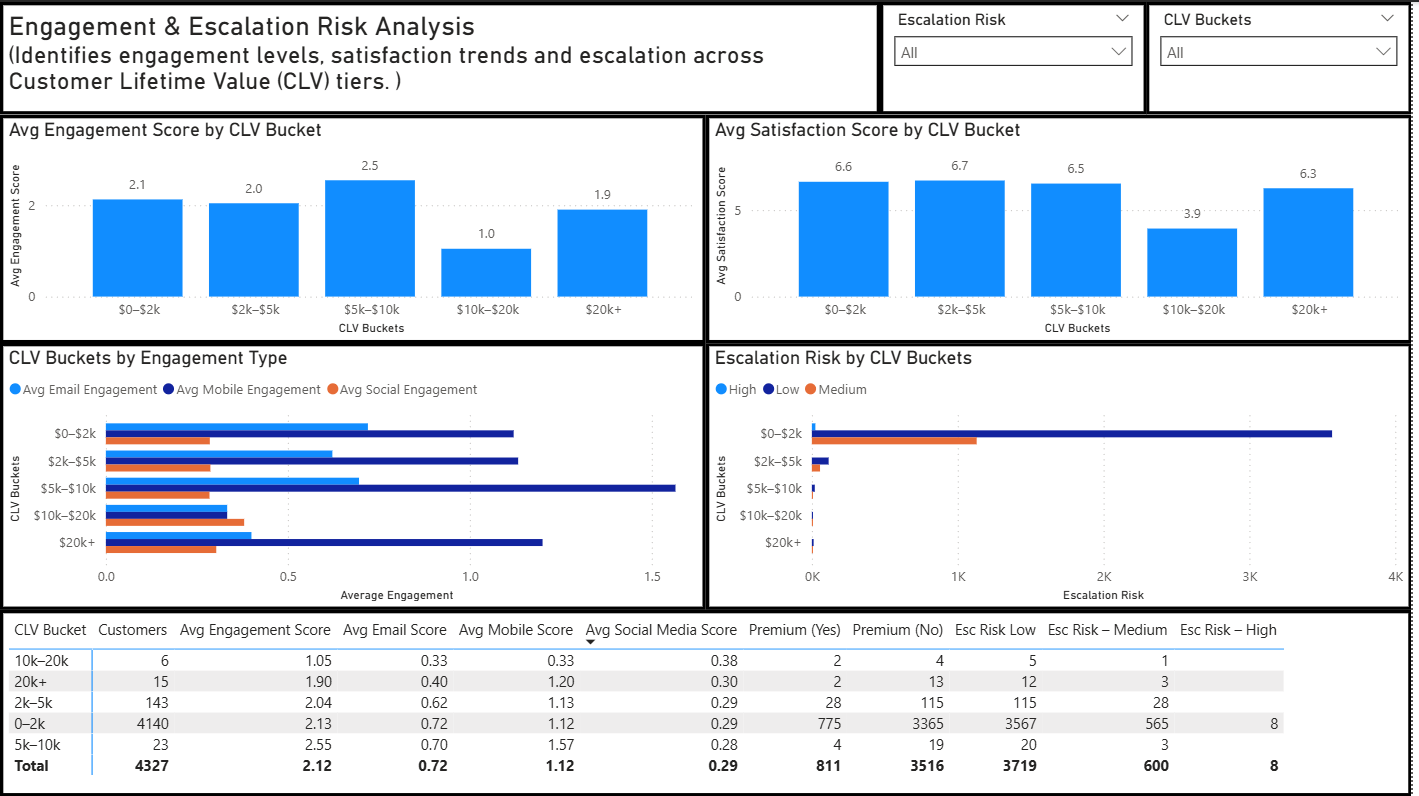

This screenshot's page, from the dashboard's own definition file:
{"tool":"powerbi","page":{"name":"Engagement & Risk","canvas":[1280,720],"ordinal":1},"visuals":[{"type":"pivotTable","fields":{"Values":["Measures_Table.Customers","Avg(F_public_customer_engagement.engagement_score)","Avg(F_public_customer_engagement.email_score)","Avg(F_public_customer_engagement.mobile_app_score)","Avg(F_public_customer_engagement.social_media_engagement_rate)","Measures_Table.Premium (Yes)","Measures_Table.Premium (No)","Measures_Table.Esc Risk Low","Measures_Table.Esc Risk – Medium","Measures_Table.Esc Risk – High"],"Rows":["DimCustomer.CLV Bucket"]},"box":[0,551,1280,169],"z":0},{"type":"clusteredColumnChart","title":"Avg Engagement Score by CLV Bucket","fields":{"Y":["Avg(F_public_customer_engagement.engagement_score)"],"Category":["DimCustomer.CLV Bucket Display"]},"box":[0,102.2,640,206.7],"z":1000},{"type":"clusteredBarChart","title":"CLV Buckets by Engagement Type","fields":{"Y":["Measures_Table.Avg Email Engagement","Measures_Table.Avg Mobile Engagement","Measures_Table.Avg Social Engagement"],"Category":["DimCustomer.CLV Bucket Display"]},"box":[0,309,640,242],"z":2000},{"type":"clusteredBarChart","title":"Escalation Risk by CLV Buckets","fields":{"Y":["Sum(F_public_customer_satisfaction.Escalation Risk Numeric)"],"Series":["F_public_customer_satisfaction.escalation_risk"],"Category":["DimCustomer.CLV Bucket Display"]},"box":[640,309,640,242],"z":3000},{"type":"textbox","box":[0,0,798.1,101.8],"z":4000},{"type":"slicer","fields":{"Values":["DimCustomer.CLV Bucket Display"]},"box":[1039,0,241,102],"z":5000},{"type":"slicer","fields":{"Values":["DimCustomer.Escalation Risk"]},"box":[798,0,242,102],"z":6000},{"type":"columnChart","title":"Avg Satisfaction Score by CLV Bucket","fields":{"Category":["DimCustomer.CLV Bucket Display"],"Y":["Avg(F_public_customer_satisfaction.Satisfaction Score)"]},"box":[640,102.2,640,206.7],"z":7000}]}

Visuals, with their boxes in screenshot pixels (x1, y1, x2, y2), scaled from the page's 1280x720 canvas onto the 1419x796 screenshot:
pivotTable - Measures_Table.Customers x Avg(F_public_customer_engagement.engagement_score): x1=0 y1=609 x2=1418 y2=795
"Avg Engagement Score by CLV Bucket" clusteredColumnChart: x1=0 y1=113 x2=710 y2=342
"CLV Buckets by Engagement Type" clusteredBarChart: x1=0 y1=342 x2=710 y2=609
"Escalation Risk by CLV Buckets" clusteredBarChart: x1=710 y1=342 x2=1418 y2=609
textbox: x1=0 y1=0 x2=885 y2=113
slicer - DimCustomer.CLV Bucket Display: x1=1152 y1=0 x2=1418 y2=113
slicer - DimCustomer.Escalation Risk: x1=885 y1=0 x2=1153 y2=113
"Avg Satisfaction Score by CLV Bucket" columnChart: x1=710 y1=113 x2=1418 y2=342
